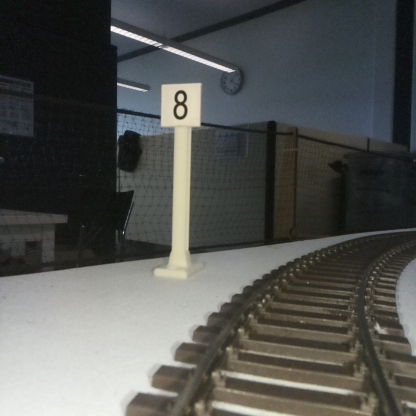white-info-8: (161, 82, 200, 275)
